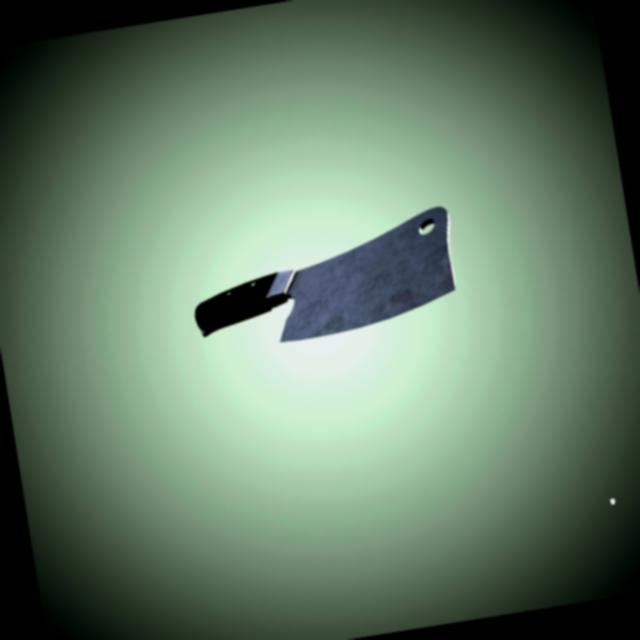cleaver: (181, 202, 463, 354)
